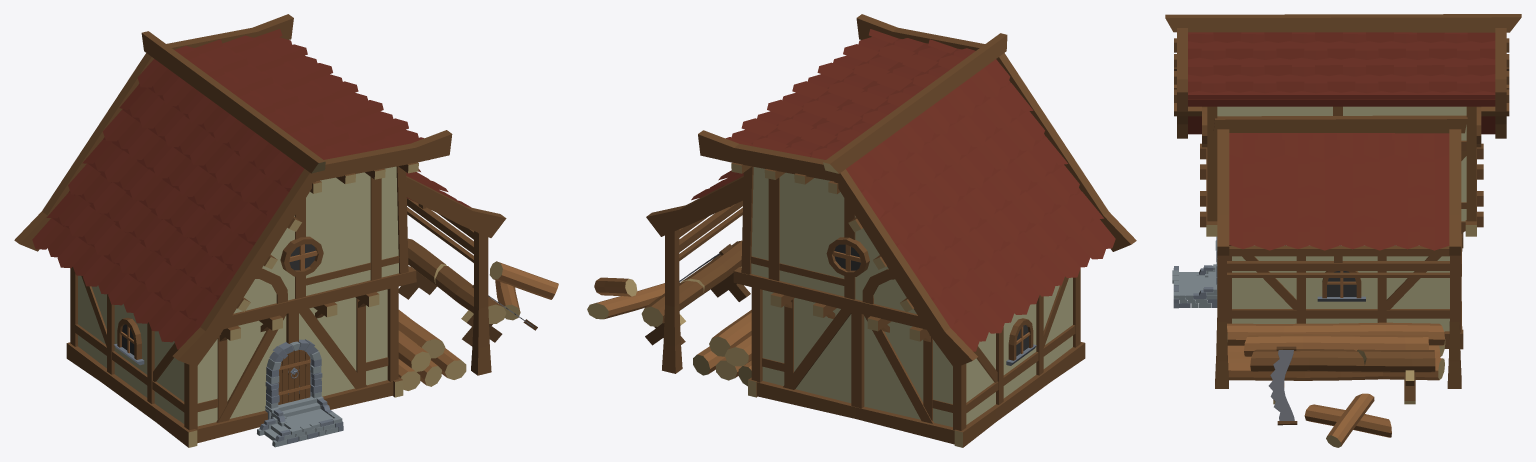
The model's file is sawmill.glb.
3 views of the same model, side by side, from view 1: azimuth 30°, elevation 25°; view 2: azimuth 150°, elevation 25°; view 3: azimuth 270°, elevation 25° (orthographic).
Parts seen in each view (by area): view 1: Sawmill; view 2: Sawmill; view 3: Sawmill.
Part boxes in pixels (x1=…): Sawmill: x1=14, y1=14, x2=558, y2=447; Sawmill: x1=587, y1=14, x2=1136, y2=447; Sawmill: x1=1165, y1=14, x2=1521, y2=447.
Bounding box in the file's own units: 12 × 7 × 8.
